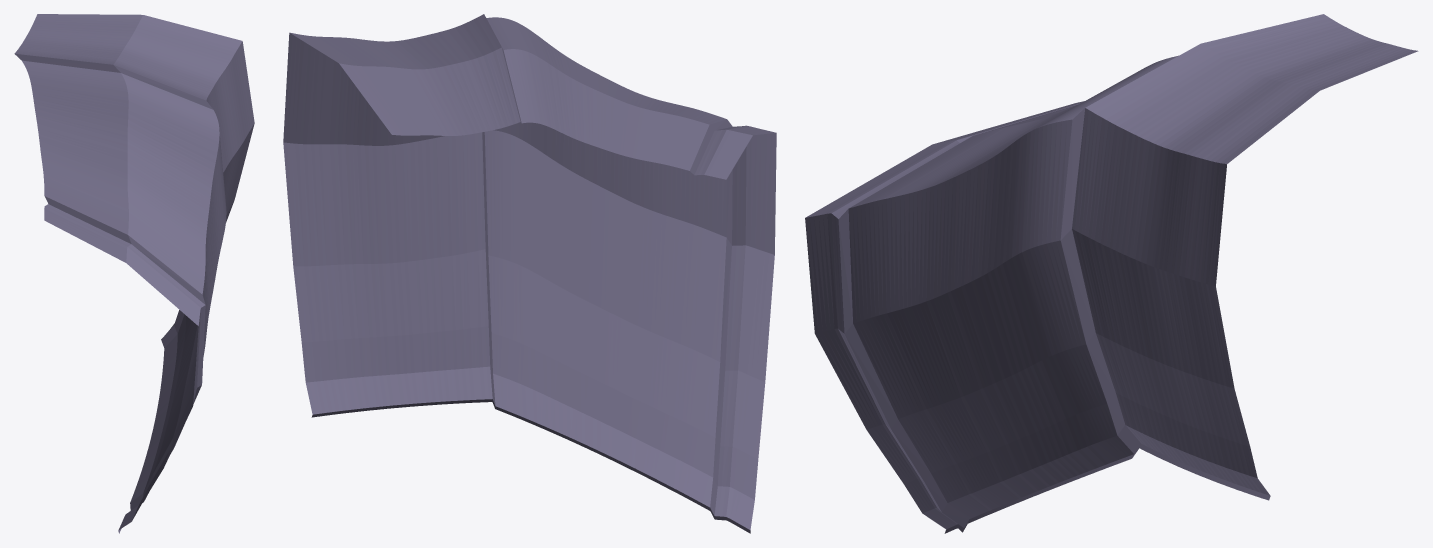
The model's file is North_Ridge.obj.
3 renders of one model, left to right at view 1: azimuth 30°, elevation 25°; view 2: azimuth 150°, elevation 25°; view 3: azimuth 270°, elevation 25°, orthographic. The views are drawn at different scales.
Visible parts, largest first — view 1: A2_North_Ridge; view 2: A2_North_Ridge; view 3: A2_North_Ridge.
Part boxes in pixels (x1=…): A2_North_Ridge: x1=14, y1=14, x2=254, y2=533; A2_North_Ridge: x1=283, y1=14, x2=776, y2=533; A2_North_Ridge: x1=805, y1=14, x2=1418, y2=533.
Bounding box in the file's own units: 33.59 × 47.7 × 48.1.
